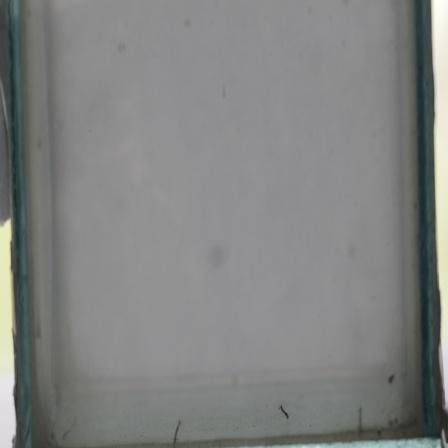Jentik-Nyamuk: (171, 416, 184, 448), (278, 402, 290, 420)
